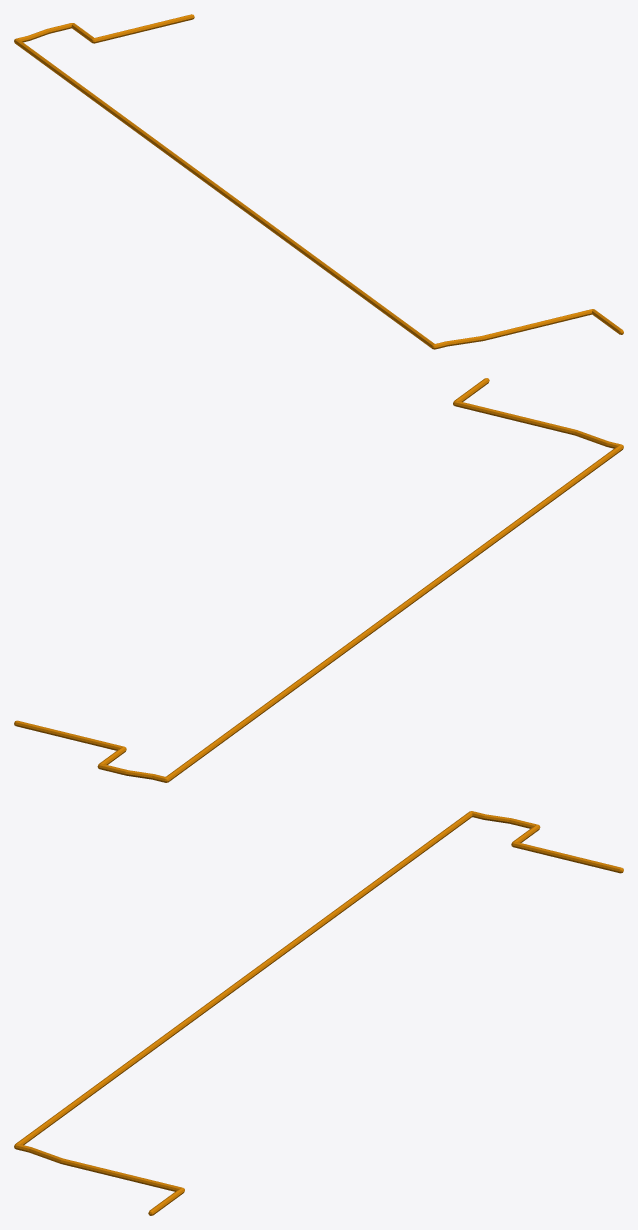
3 renders of one model, top to bottom at view 1: azimuth 30°, elevation 25°; view 2: azimuth 150°, elevation 25°; view 3: azimuth 330°, elevation 25°, orthographic. The views are drawn at different scales.
Size of the model in its own units: 658 by 20 by 3210.
